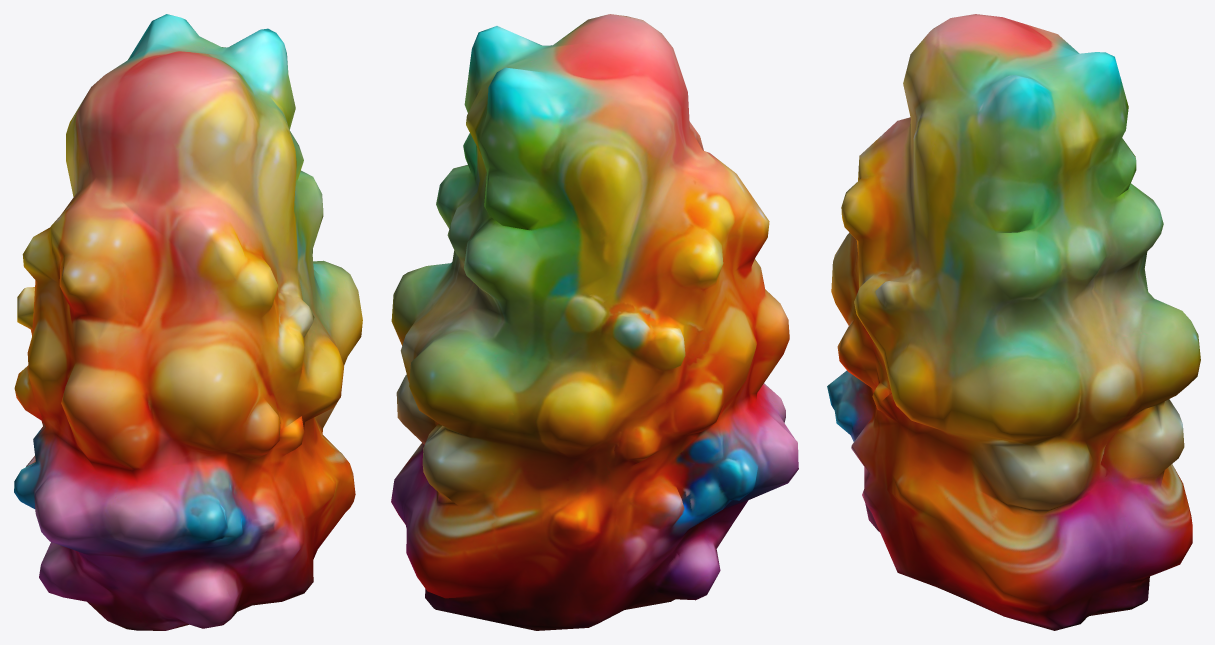
The picture shows the model from 3 angles, left to right: view 1: azimuth 30°, elevation 25°; view 2: azimuth 150°, elevation 25°; view 3: azimuth 270°, elevation 25°; orthographic projection.
Visible parts, largest first — view 1: ProcessedMeshNode_LOD1; view 2: ProcessedMeshNode_LOD1; view 3: ProcessedMeshNode_LOD1.
Boxes of the visible parts, <box> form: ProcessedMeshNode_LOD1: <box>14,14,362,630</box>; ProcessedMeshNode_LOD1: <box>391,14,798,630</box>; ProcessedMeshNode_LOD1: <box>827,14,1200,630</box>.
Bounding box in the file's own units: 59 × 85.94 × 54.32.
1 material, 1 textured.
